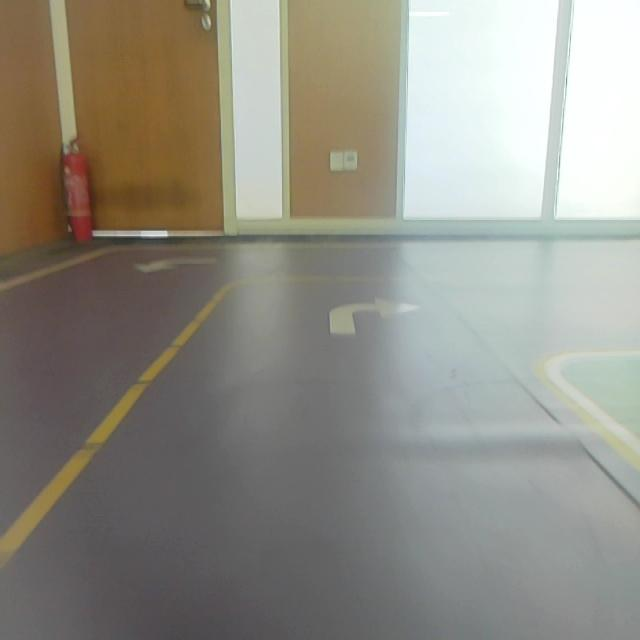left_lane: (0, 284, 229, 569)
right_lane: (537, 368, 640, 472)
